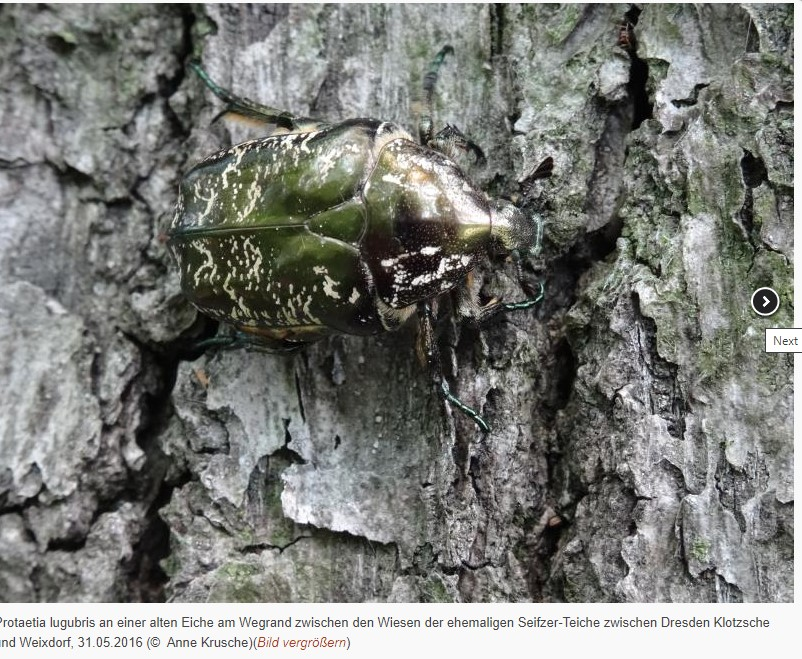Protaetia_lugubris: (141, 57, 552, 437)
